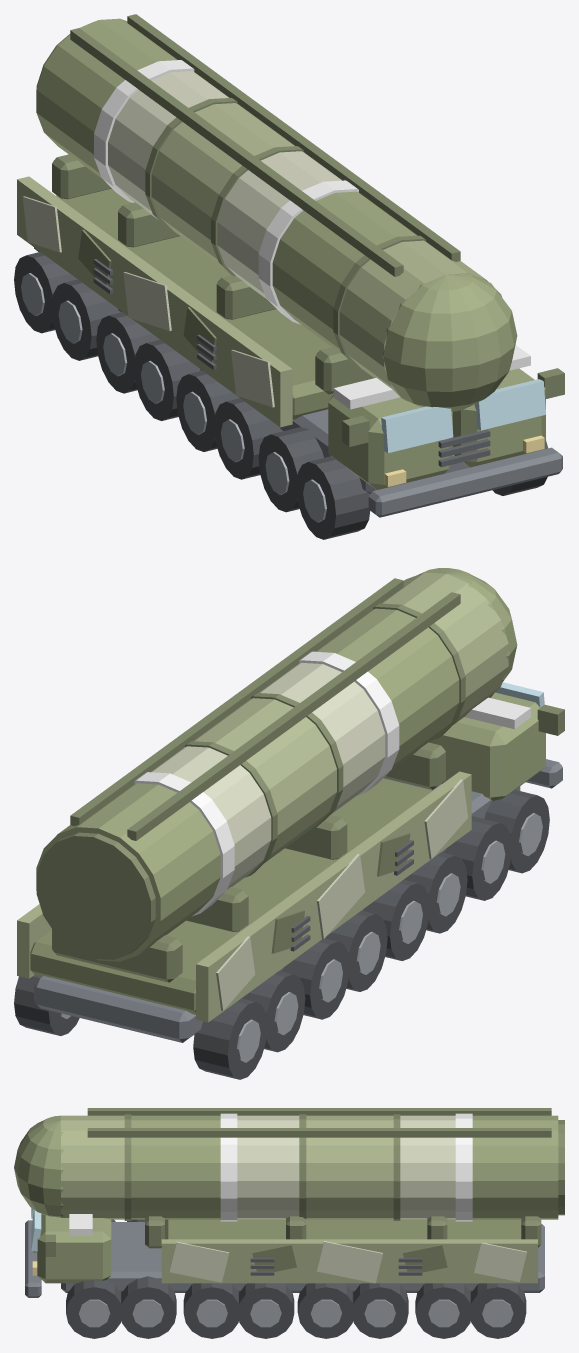
The model's file is nukelauncher.glb.
The picture shows the model from 3 angles, top to bottom: view 1: azimuth 30°, elevation 25°; view 2: azimuth 150°, elevation 25°; view 3: azimuth 270°, elevation 25°; orthographic projection. The views are drawn at different scales.
Parts seen in each view (by area): view 1: main; view 2: main; view 3: main.
Part boxes in pixels (x1,y1,x2,y2): main: [14, 14, 564, 539]; main: [14, 568, 564, 1079]; main: [14, 1108, 564, 1338].
Bounding box in the file's own units: 0.535 × 0.601 × 1.64.
